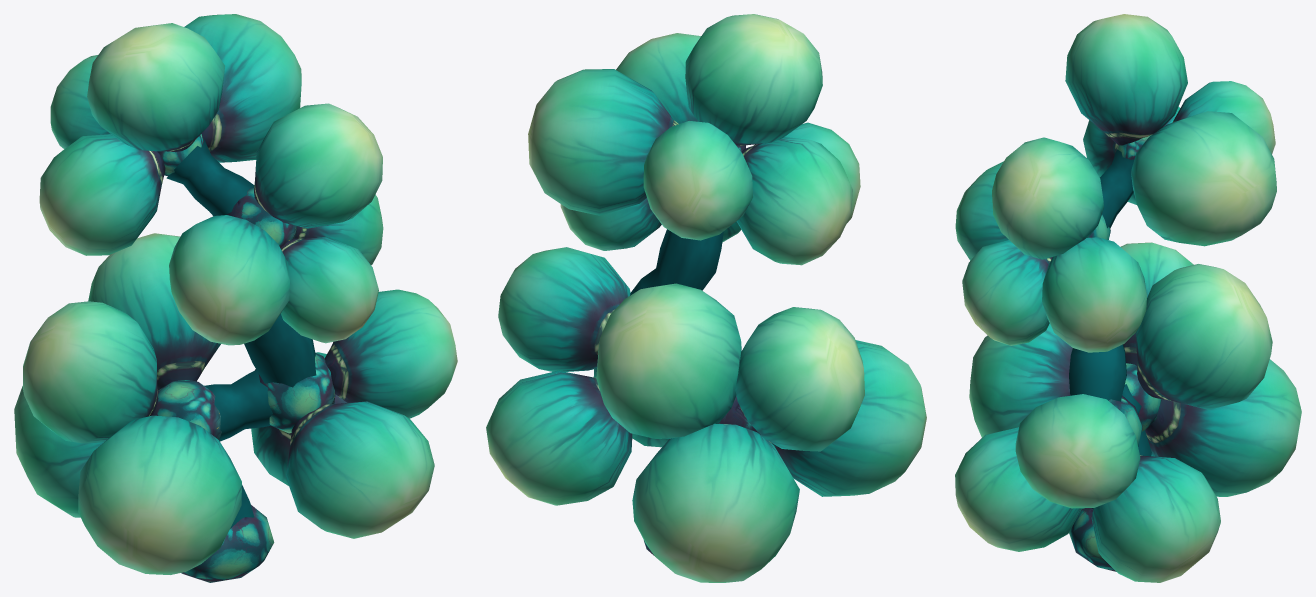
File: Bio_cargo_01_a.fbx
The picture shows the model from 3 angles, left to right: view 1: azimuth 30°, elevation 25°; view 2: azimuth 150°, elevation 25°; view 3: azimuth 270°, elevation 25°; orthographic projection. The views are drawn at different scales.
Visible parts, largest first — view 1: Bio_cargo_01_a; view 2: Bio_cargo_01_a; view 3: Bio_cargo_01_a.
Boxes of the visible parts, x1=… form: Bio_cargo_01_a: x1=14, y1=14, x2=457, y2=582; Bio_cargo_01_a: x1=486, y1=14, x2=926, y2=582; Bio_cargo_01_a: x1=955, y1=14, x2=1301, y2=582.
Bounding box in the file's own units: 3.19 × 4.44 × 2.68.
